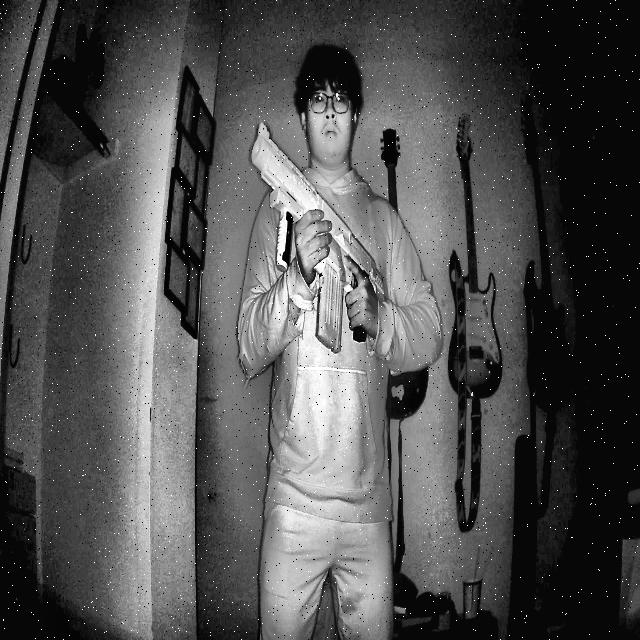Nerf_Blaster: (236, 95, 404, 419)
